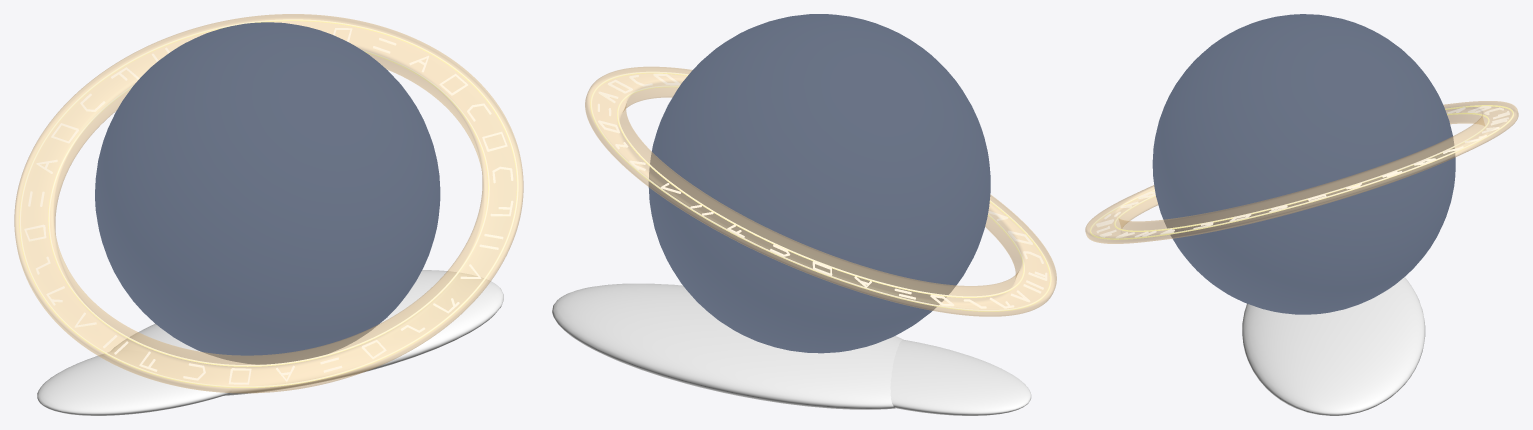
The model's file is zhihe-hero-mobile.glb.
3 views of the same model, side by side, from view 1: azimuth 30°, elevation 25°; view 2: azimuth 150°, elevation 25°; view 3: azimuth 270°, elevation 25° (orthographic). The views are drawn at different scales.
Parts seen in each view (by area): view 1: Atmosphere_Continuous_Rim, Ring_GlassBody, GroundGlow_Cold, GroundGlow_Warm, RingEdge_1.486_0.000, RingEdge_1.314_0.000; view 2: Atmosphere_Continuous_Rim, GroundGlow_Cold, Ring_GlassBody, GroundGlow_Warm, RingEdge_1.486_0.000, RingEdge_1.314_0.000; view 3: Atmosphere_Continuous_Rim, GroundGlow_Cold, Ring_GlassBody, RingEdge_1.486_0.000, RingEdge_1.314_0.000.
Part boxes in pixels (bbox=[...]): Atmosphere_Continuous_Rim: bbox=[95, 22, 440, 364]; Ring_GlassBody: bbox=[14, 14, 523, 393]; GroundGlow_Cold: bbox=[110, 270, 503, 395]; GroundGlow_Warm: bbox=[37, 350, 231, 415]; RingEdge_1.486_0.000: bbox=[19, 19, 518, 387]; RingEdge_1.314_0.000: bbox=[48, 49, 489, 366]; Atmosphere_Continuous_Rim: bbox=[648, 14, 990, 353]; GroundGlow_Cold: bbox=[552, 283, 903, 409]; Ring_GlassBody: bbox=[585, 66, 1056, 316]; GroundGlow_Warm: bbox=[890, 339, 1031, 415]; RingEdge_1.486_0.000: bbox=[590, 71, 1051, 311]; RingEdge_1.314_0.000: bbox=[617, 85, 1024, 297]; Atmosphere_Continuous_Rim: bbox=[1152, 14, 1455, 314]; GroundGlow_Cold: bbox=[1242, 277, 1425, 415]; Ring_GlassBody: bbox=[1085, 101, 1518, 243]; RingEdge_1.486_0.000: bbox=[1090, 105, 1513, 239]; RingEdge_1.314_0.000: bbox=[1114, 112, 1489, 231].
Size of the model in its own units: 3.18 by 2.22 by 2.93.
